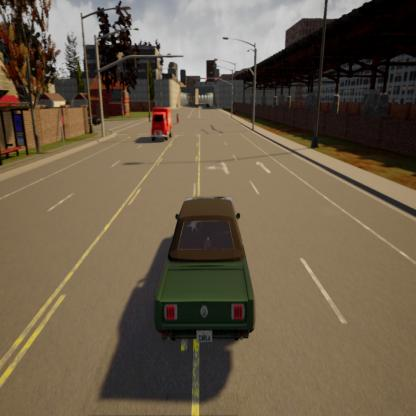Cars: (154, 178, 266, 355), (146, 92, 182, 150)
